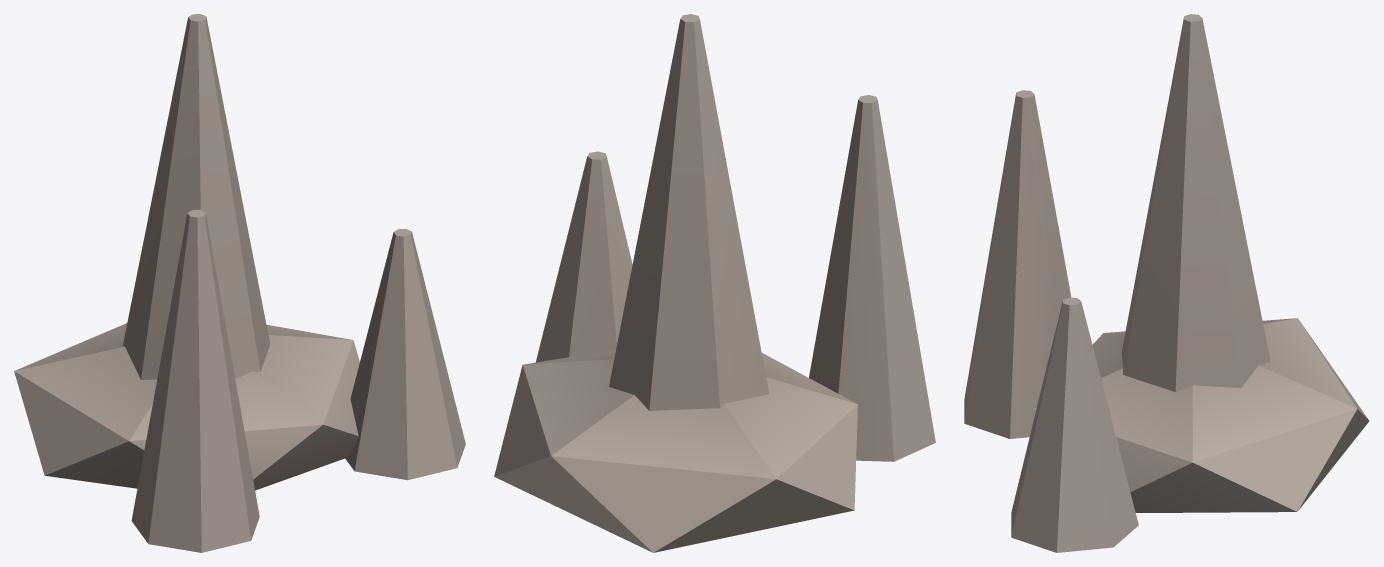
The model's file is VCaveStalag_B.fbx.
3 renders of one model, left to right at view 1: azimuth 30°, elevation 25°; view 2: azimuth 150°, elevation 25°; view 3: azimuth 270°, elevation 25°, orthographic. The views are drawn at different scales.
Visible parts, largest first — view 1: VCaveStalag_B; view 2: VCaveStalag_B; view 3: VCaveStalag_B.
Boxes of the visible parts, x1,y1,x2,y2 form: VCaveStalag_B: [14, 14, 465, 552]; VCaveStalag_B: [494, 14, 935, 552]; VCaveStalag_B: [964, 14, 1369, 552].
Bounding box in the file's own units: 0.8692 × 1 × 0.8446.
